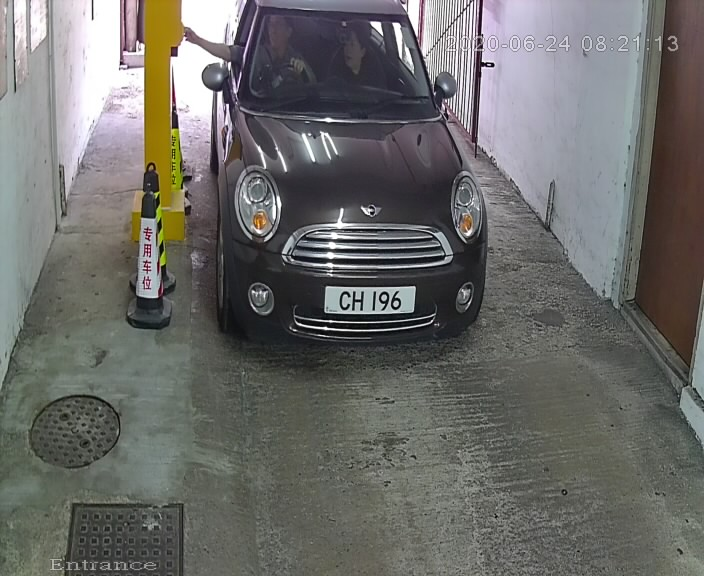privatecar: (181, 1, 520, 366)
